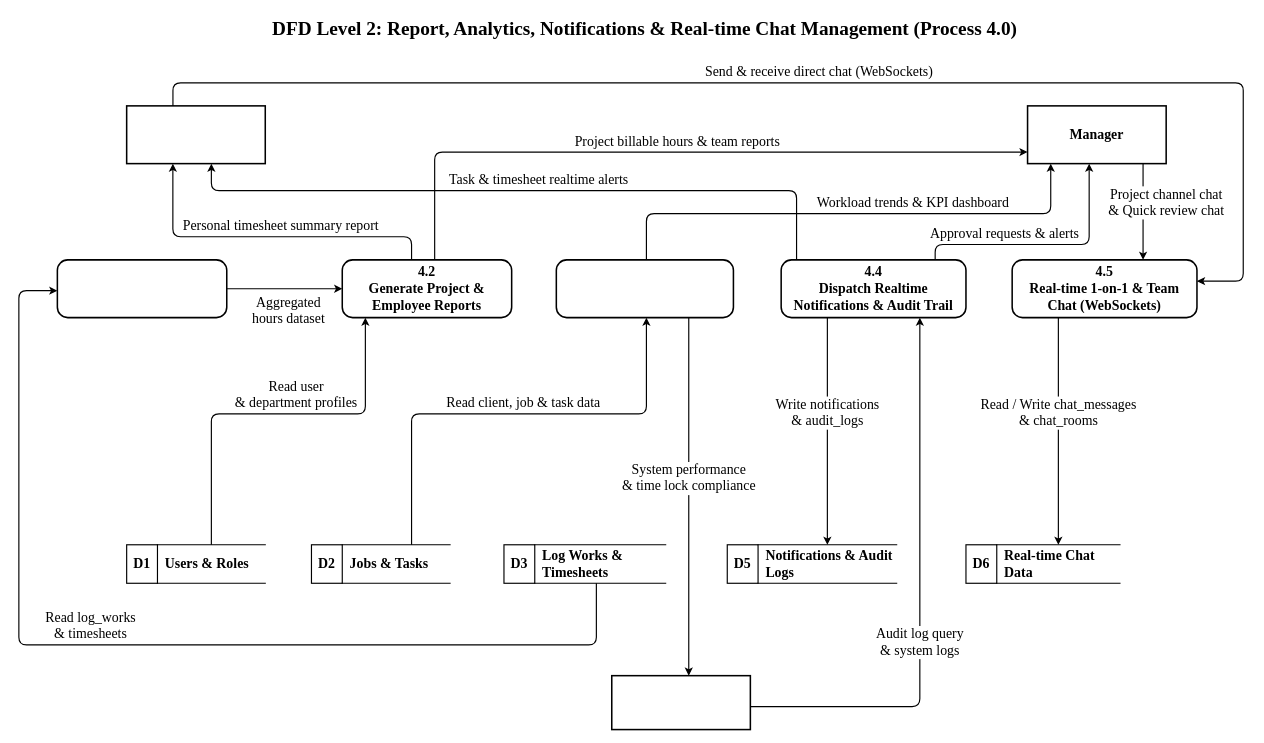
This 1264x743 diagram has some shape labels left out. The centre of each missing label's shape, as x and y in pixels:
"4.1 Aggregate Timesheet & Work Hours Data" belongs at [141,288].
"4.3 Compute Work Analytics & System KPIs" belongs at [644,288].
"Administrator" belongs at [681,702].
"Employee" belongs at [196,134].
